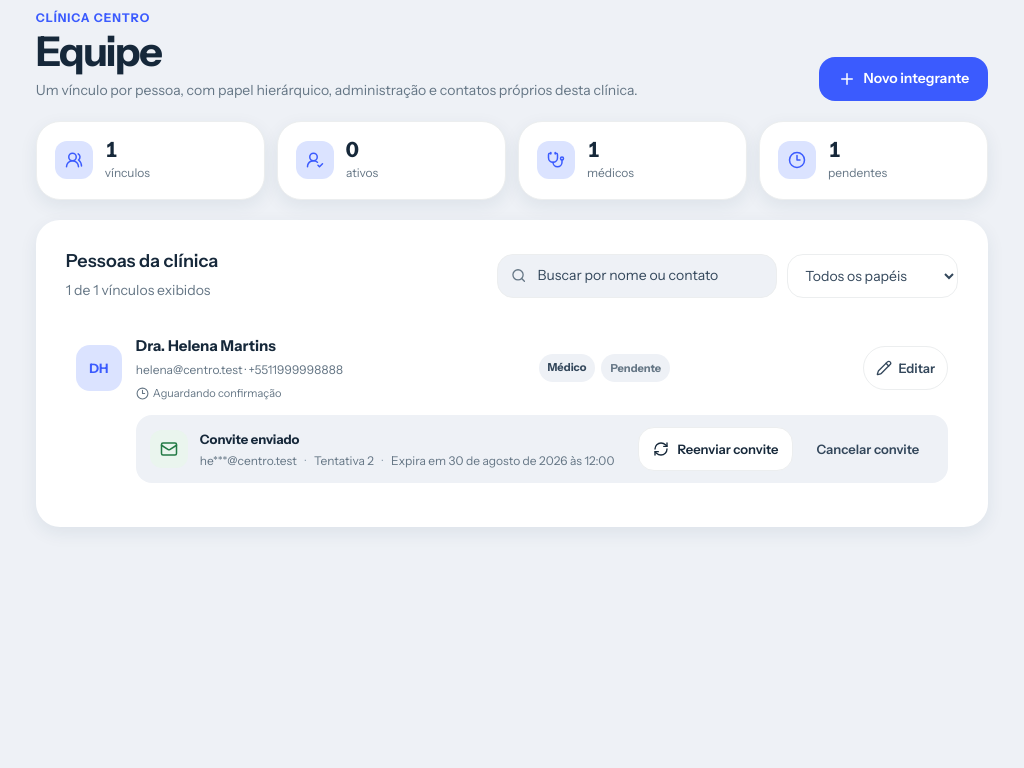
Scenario: explica a invalidação e o reenvio explícito ao editar e-mail pendente
Click the button with aria-label "Editar vínculo de Dra. Helena Martins" at (906,368), box [864,346,948,390]
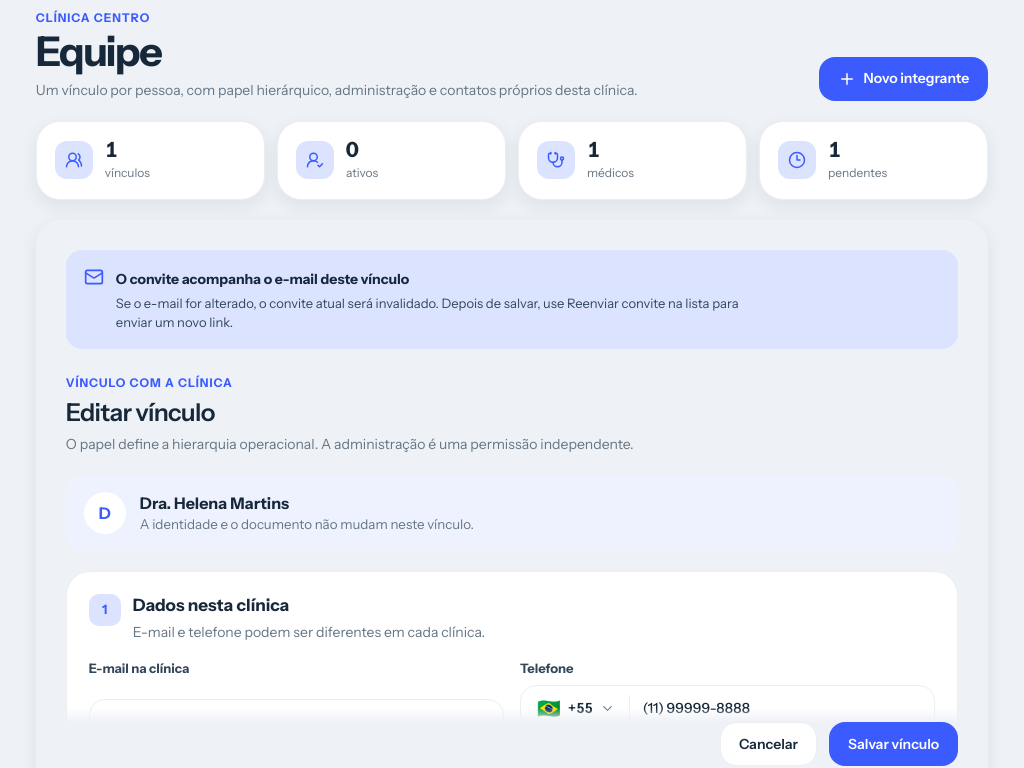
Expected: the text "o convite atual será invalidado" shows "depois de salvar, use Reenviar convite", [116,295,739,330]
